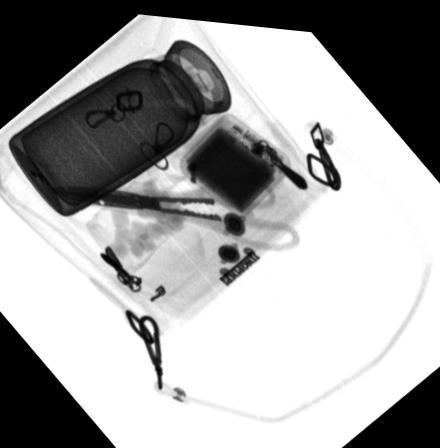Powerbank: (179, 108, 291, 214)
Scissors: (48, 157, 300, 247)
